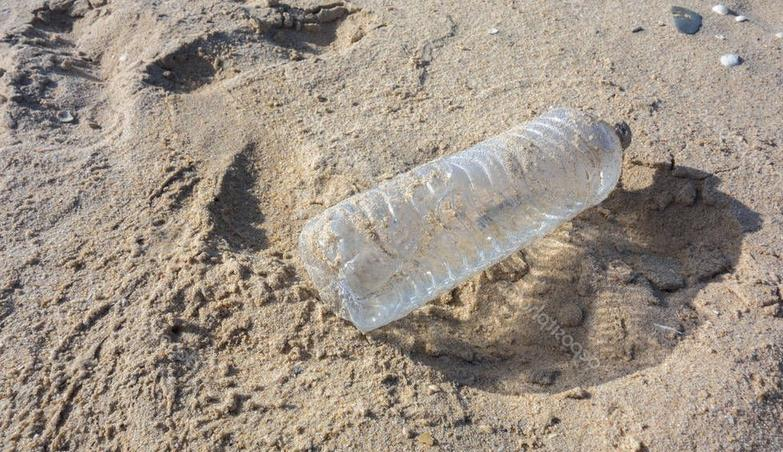Plastic: (282, 99, 642, 343)
